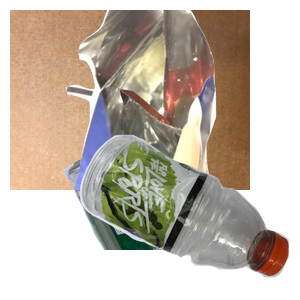cardboard: (10, 10, 250, 190)
glass: (60, 120, 300, 300)
plastic: (77, 132, 300, 300)
trash: (63, 10, 300, 190)
